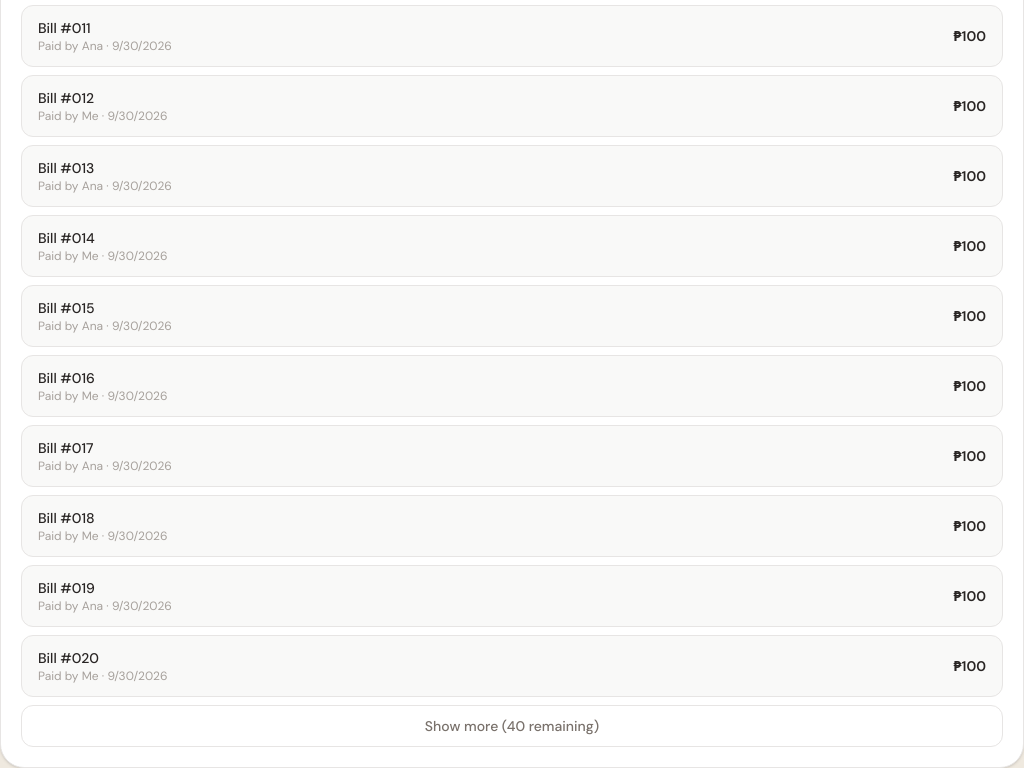
Test: GroupDetailPage bills, server-paged › H9.1: opening another group in place drops the first group's loaded rows, even with a Show more in flight
(page scrolled)
Click the button "Show more (40 remaining)".
click(512, 726)  # box [21,705,1003,747]
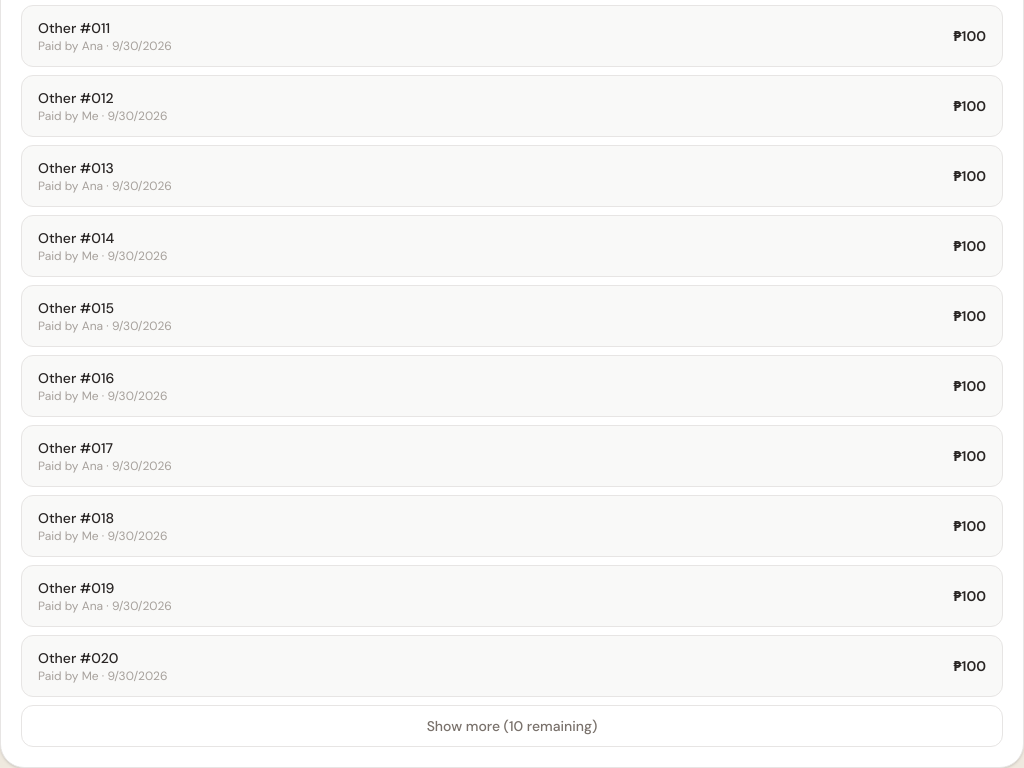
Expected: the text "Bill #" is gone
Expected: the text "Other #020" is shown, [38,648,118,668]
Expected: the button "Show more (10 remaining)" is shown, [21,705,1003,747]
